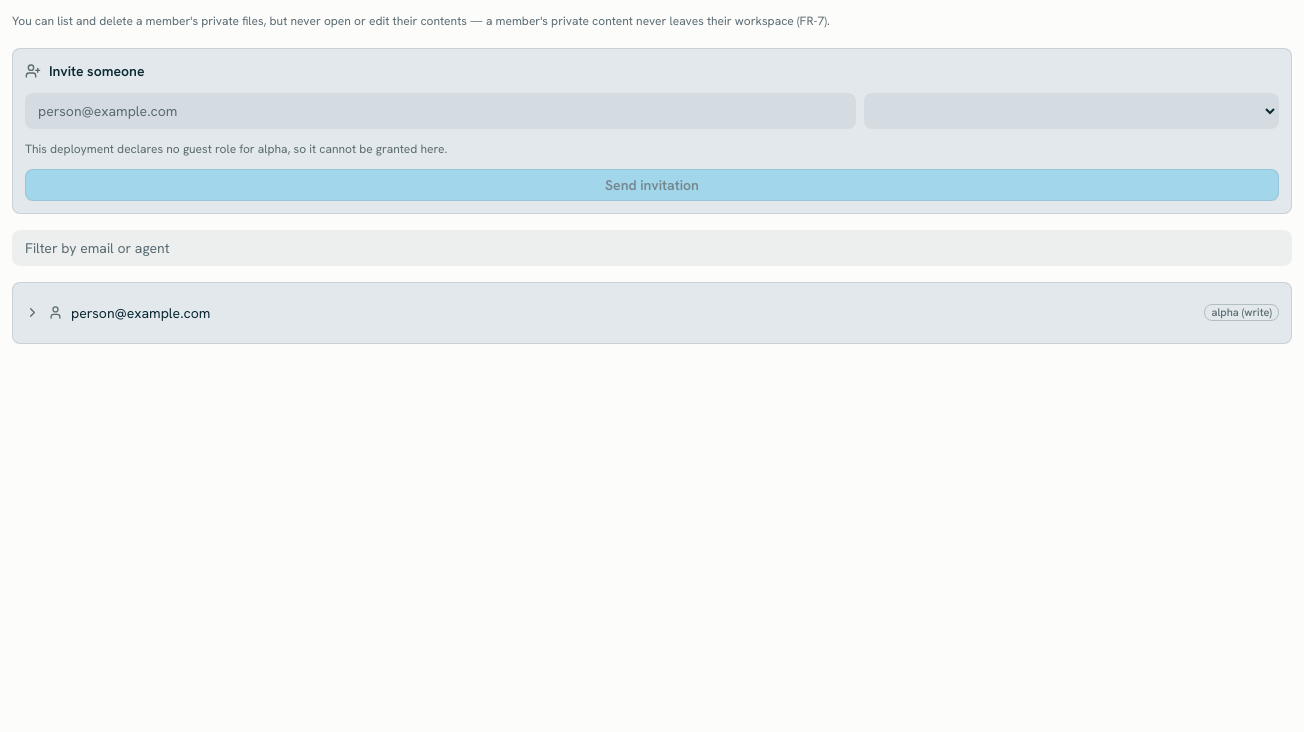
Test: MembersPanel — instance rows › lists the context's agent and no other
The width and height of the screenshot is (1304, 732).
Click the button "person@example.com" at [141, 312], box [25,290,1196,334]
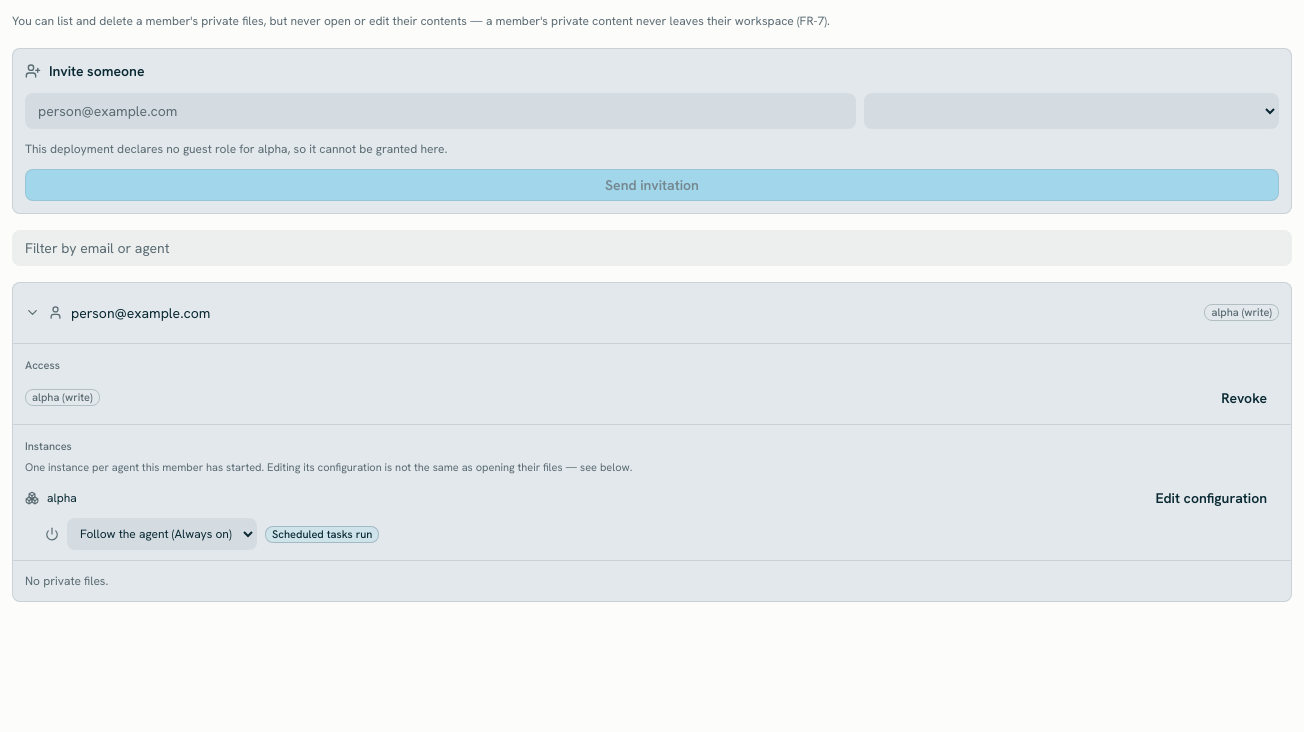
Now the list item "alpha Edit configuration Scheduled tasks run" is shown, box [25,480,1279,552]
